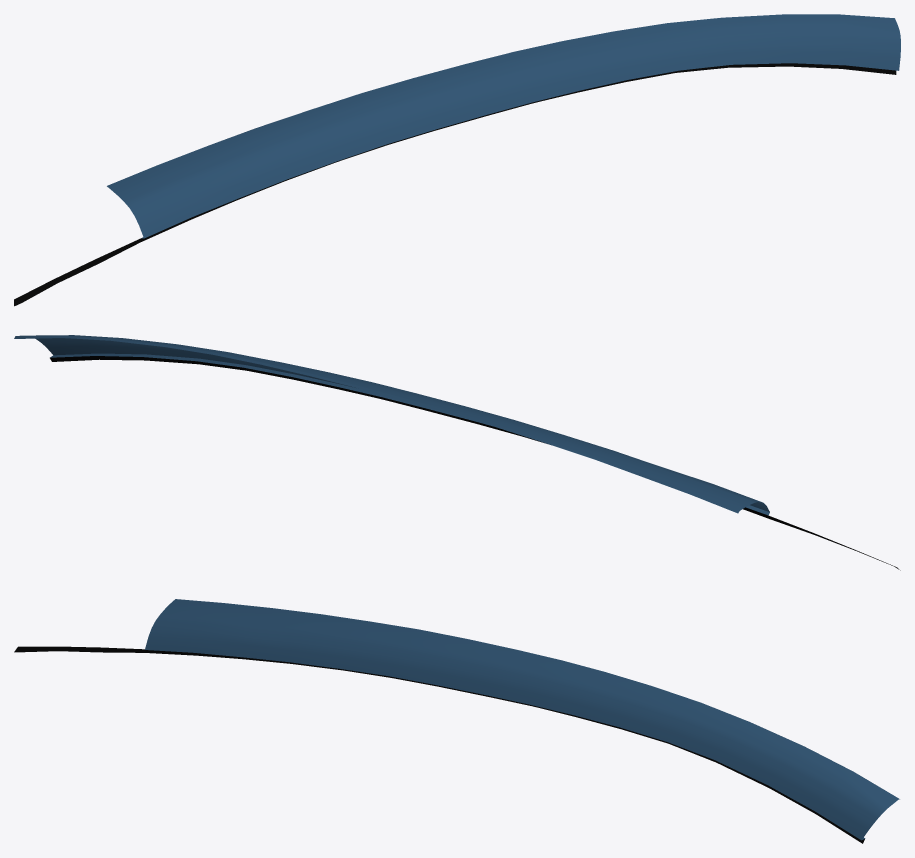
3 views of the same model, one above another, from view 1: azimuth 30°, elevation 25°; view 2: azimuth 150°, elevation 25°; view 3: azimuth 330°, elevation 25° (orthographic). The views are drawn at different scales.
Visible parts, largest first — view 1: Y191_13_18A5_R_DaS_Y191_13_18A5_R, Y191_13_18A5_R_Y191_13_18A5_R_D; view 2: Y191_13_18A5_R_DaS_Y191_13_18A5_R, Y191_13_18A5_R_DaS_Y191_13_18A5_R_E, Y191_13_18A5_R_Y191_13_18A5_R_D; view 3: Y191_13_18A5_R_DaS_Y191_13_18A5_R, Y191_13_18A5_R_Y191_13_18A5_R_D.
Part boxes in pixels (x1=…): Y191_13_18A5_R_DaS_Y191_13_18A5_R: x1=107, y1=14, x2=900, y2=238; Y191_13_18A5_R_Y191_13_18A5_R_D: x1=14, y1=63, x2=896, y2=306; Y191_13_18A5_R_DaS_Y191_13_18A5_R: x1=15, y1=335, x2=769, y2=512; Y191_13_18A5_R_DaS_Y191_13_18A5_R_E: x1=14, y1=335, x2=769, y2=515; Y191_13_18A5_R_Y191_13_18A5_R_D: x1=50, y1=356, x2=900, y2=570; Y191_13_18A5_R_DaS_Y191_13_18A5_R: x1=145, y1=599, x2=898, y2=840; Y191_13_18A5_R_Y191_13_18A5_R_D: x1=14, y1=646, x2=864, y2=843.
Bounding box in the file's own units: 121 × 12.02 × 9.7.
